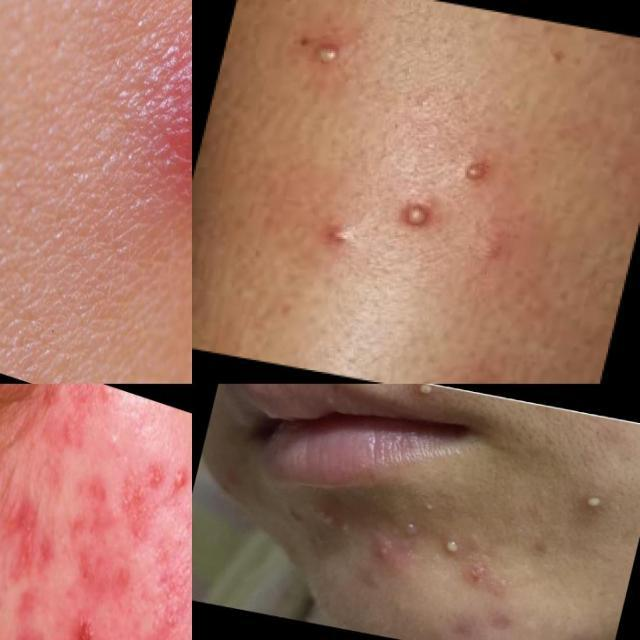Pimples: (126, 0, 192, 237), (0, 493, 44, 590), (387, 190, 445, 240), (302, 498, 360, 547), (298, 29, 354, 79), (309, 212, 362, 258), (122, 494, 153, 559), (448, 152, 500, 190), (71, 474, 111, 514), (33, 536, 64, 584), (102, 557, 131, 605), (152, 558, 180, 606), (436, 532, 468, 572), (582, 488, 617, 518), (76, 550, 97, 594), (8, 620, 49, 640), (372, 539, 398, 570), (172, 463, 192, 502), (68, 615, 98, 640), (413, 384, 438, 404)
